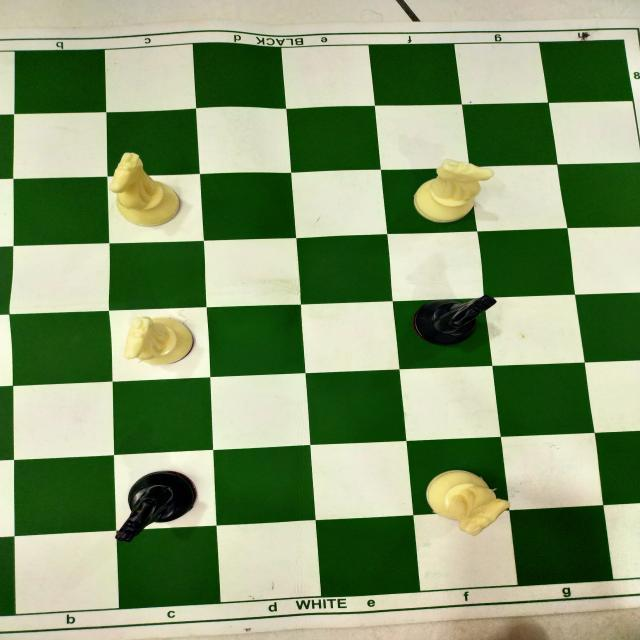black-knight: (116, 472, 197, 542), (411, 292, 496, 345)
white-knight: (424, 467, 512, 536), (412, 158, 494, 224), (110, 150, 181, 226), (124, 317, 198, 365)
